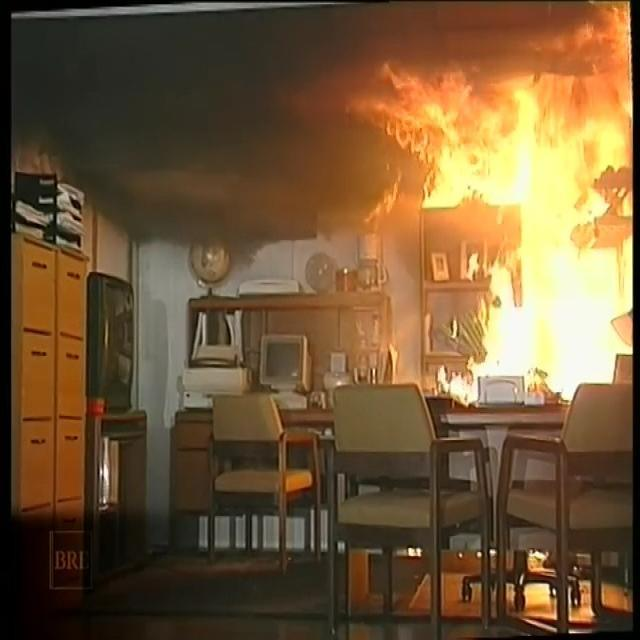Fire: (316, 0, 636, 427)
